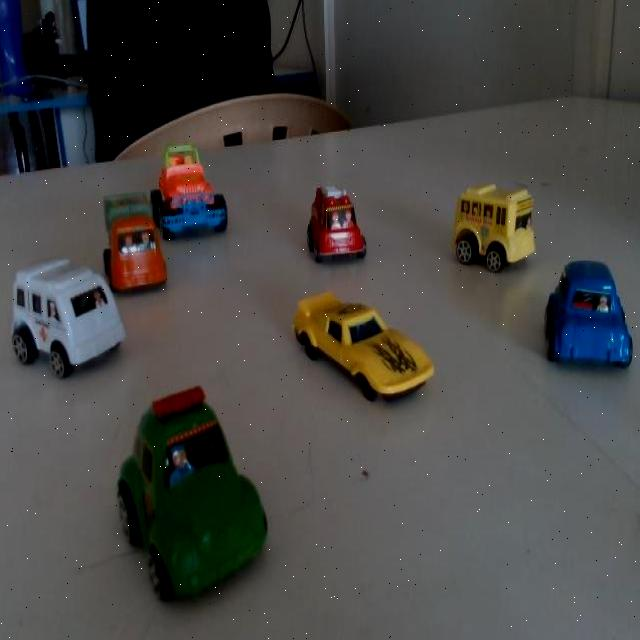car: (104, 390, 266, 586), (289, 279, 434, 412), (5, 243, 125, 391), (544, 256, 638, 379), (445, 181, 532, 281), (156, 134, 236, 235), (100, 181, 165, 297), (295, 174, 365, 274)
